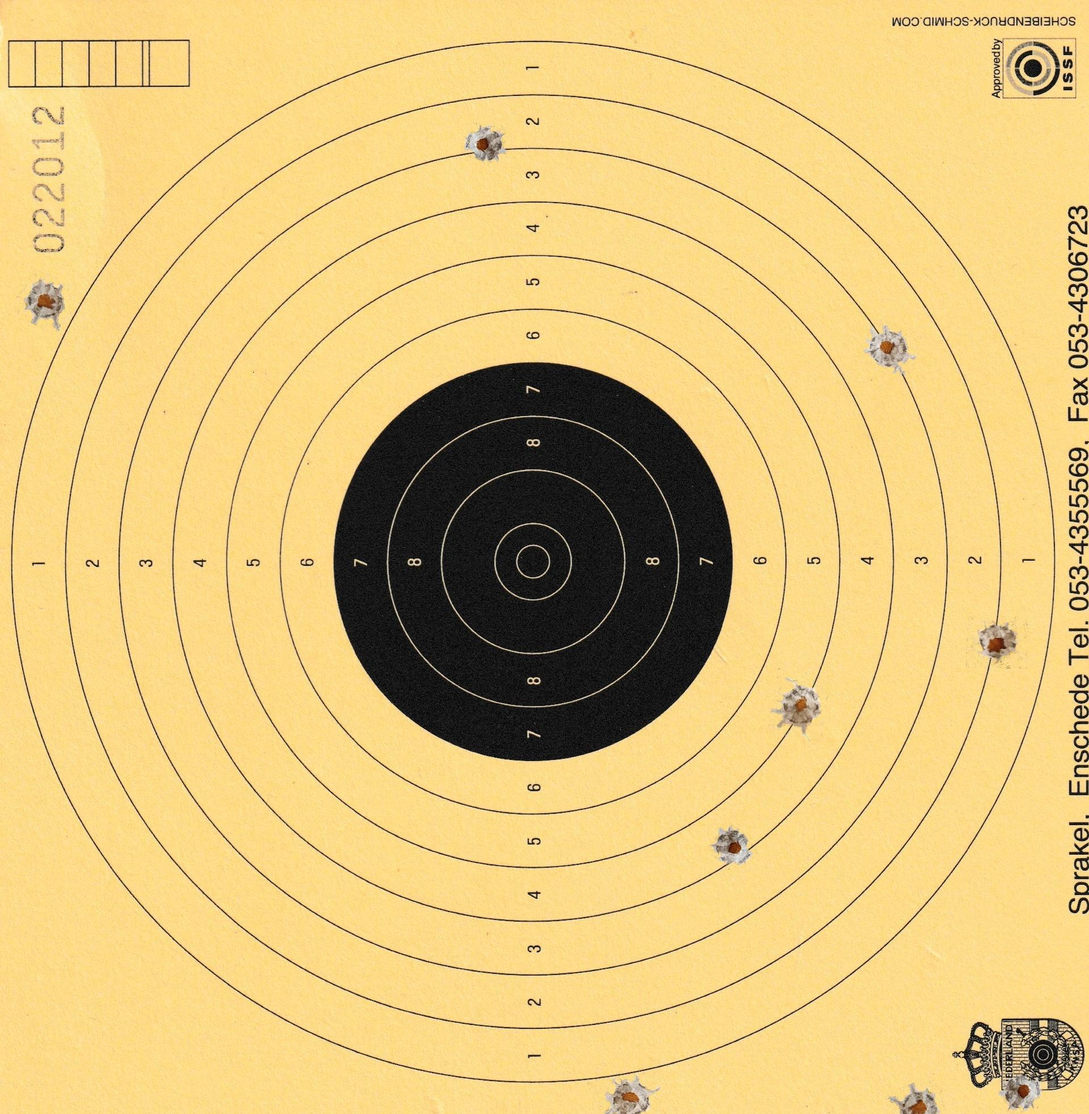hole: (771, 675, 823, 735), (19, 275, 74, 331), (863, 322, 917, 376), (602, 1071, 659, 1114), (994, 1068, 1043, 1113), (885, 1079, 944, 1114), (976, 620, 1021, 664), (463, 122, 509, 165), (709, 825, 753, 868)
